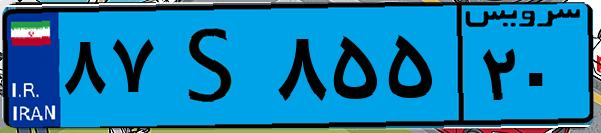0: (525, 38, 570, 115)
2: (475, 38, 525, 113)
5: (385, 28, 445, 110), (330, 28, 385, 110)
7: (110, 28, 158, 98)
8: (270, 28, 330, 110), (57, 26, 110, 100)
S: (158, 12, 270, 120)
